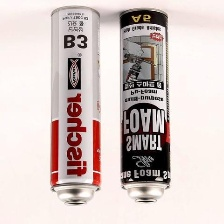aerosol_cans: (46, 2, 103, 207), (115, 5, 172, 206)
